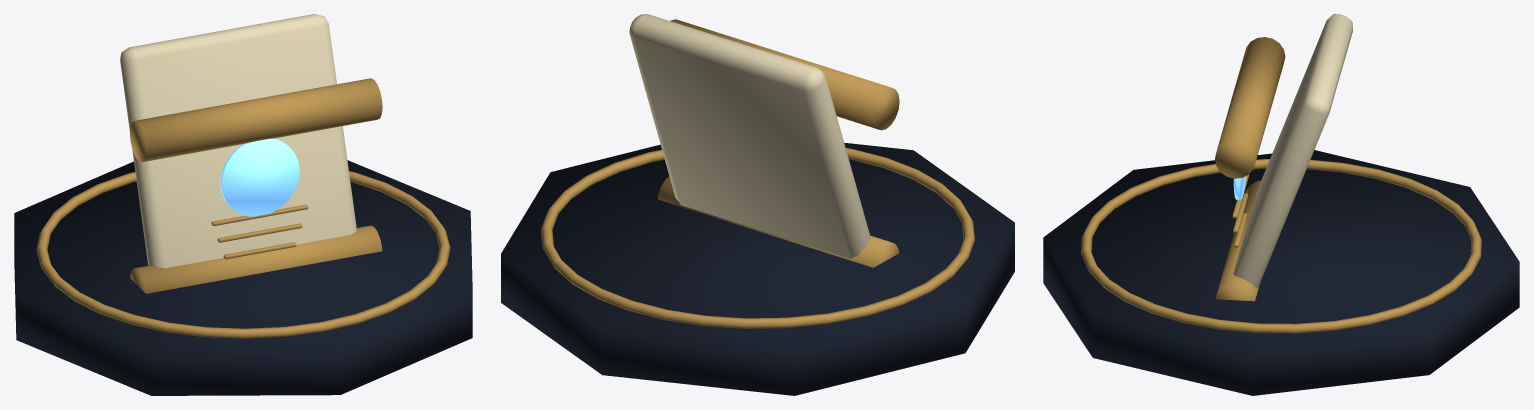
3 views of the same model, side by side, from view 1: azimuth 30°, elevation 25°; view 2: azimuth 150°, elevation 25°; view 3: azimuth 270°, elevation 25° (orthographic). The views are drawn at different scales.
Parts seen in each view (by area): view 1: Hexagonal plinth, Parchment, Rolled parchment edge.001, Inlaid rim, Rolled parchment edge, 3B embossed seal, Embossed line, Embossed line.001, Embossed line.002; view 2: Hexagonal plinth, Parchment, Inlaid rim, Rolled parchment edge.001, Rolled parchment edge; view 3: Hexagonal plinth, Parchment, Inlaid rim, Rolled parchment edge.001, Rolled parchment edge.
Boxes of the visible parts, box(x1,y1,x2,y2) form: Hexagonal plinth: box(14, 160, 472, 395); Parchment: box(120, 14, 356, 268); Rolled parchment edge.001: box(130, 78, 382, 162); Inlaid rim: box(36, 171, 450, 338); Rolled parchment edge: box(130, 225, 382, 293); 3B embossed seal: box(220, 138, 299, 216); Embossed line: box(211, 204, 308, 225); Embossed line.001: box(217, 223, 302, 242); Embossed line.002: box(223, 242, 296, 259); Hexagonal plinth: box(501, 142, 1014, 395); Parchment: box(629, 14, 870, 258); Inlaid rim: box(541, 148, 974, 328); Rolled parchment edge.001: box(670, 19, 899, 130); Rolled parchment edge: box(657, 176, 898, 267); Hexagonal plinth: box(1043, 150, 1519, 395); Parchment: box(1233, 14, 1353, 288); Inlaid rim: box(1081, 159, 1481, 333); Rolled parchment edge.001: box(1215, 37, 1285, 178); Rolled parchment edge: box(1215, 180, 1261, 301).
Size of the model in its own units: 1.51 by 0.8899 by 1.51.
